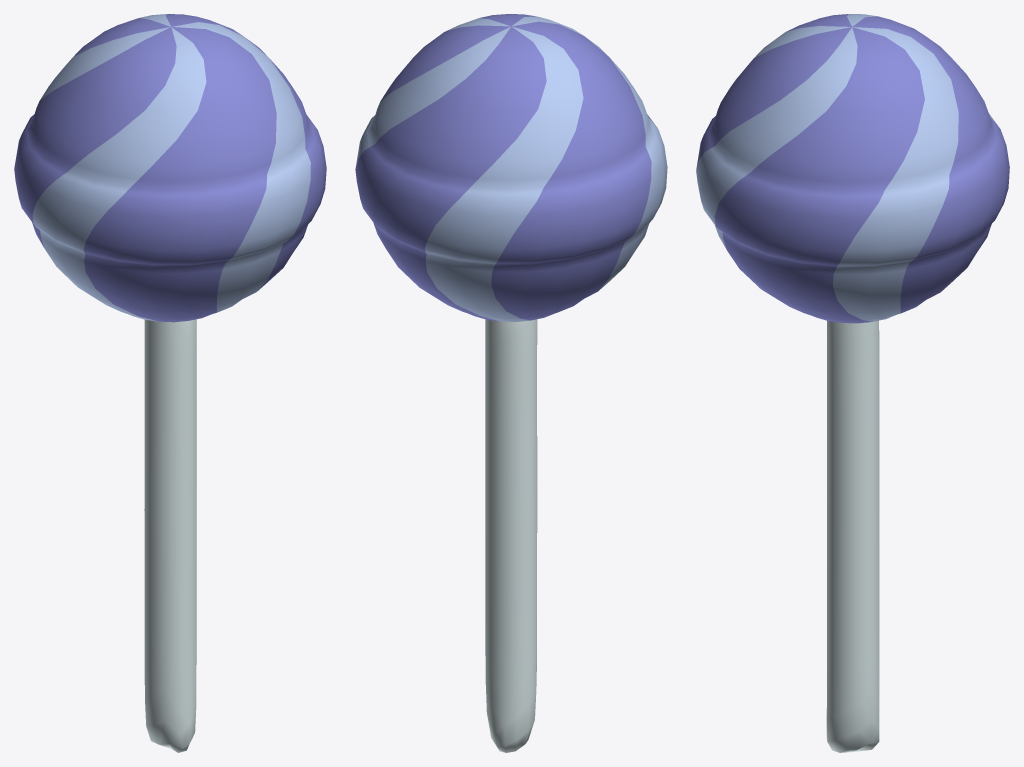
File: Lollipop_A_02.fbx
The picture shows the model from 3 angles, left to right: view 1: azimuth 30°, elevation 25°; view 2: azimuth 150°, elevation 25°; view 3: azimuth 270°, elevation 25°; orthographic projection.
Parts seen in each view (by area): view 1: Lollipop_A_02_LOD0; view 2: Lollipop_A_02_LOD0; view 3: Lollipop_A_02_LOD0.
Boxes of the visible parts, box(x1,y1,x2,y2) form: Lollipop_A_02_LOD0: box(14, 14, 326, 752); Lollipop_A_02_LOD0: box(355, 14, 667, 752); Lollipop_A_02_LOD0: box(696, 14, 1009, 752).
Size of what is drawn, in the model's own units: 440 by 1123 by 440.
